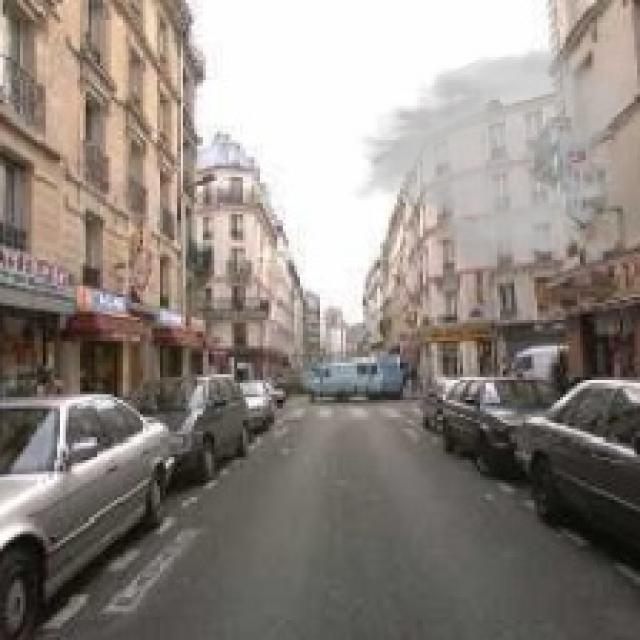smoke: (348, 46, 632, 271)
